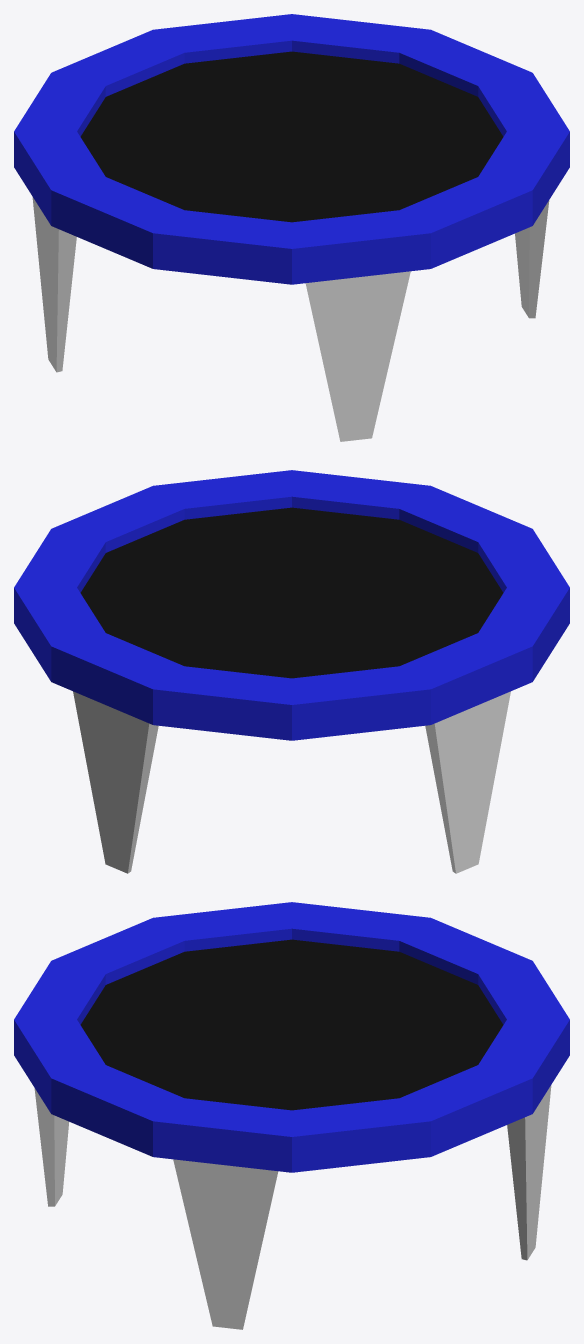
The model's file is Batute.fbx.
3 views of the same model, one above another, from view 1: azimuth 30°, elevation 25°; view 2: azimuth 150°, elevation 25°; view 3: azimuth 270°, elevation 25° (orthographic).
Parts seen in each view (by area): view 1: Cylinder; view 2: Cylinder; view 3: Cylinder.
Boxes of the visible parts, box(x1,y1,x2,y2) form: Cylinder: box(14, 14, 569, 441); Cylinder: box(14, 470, 569, 873); Cylinder: box(14, 902, 569, 1329).
Bounding box in the file's own units: 615 × 253 × 615.
